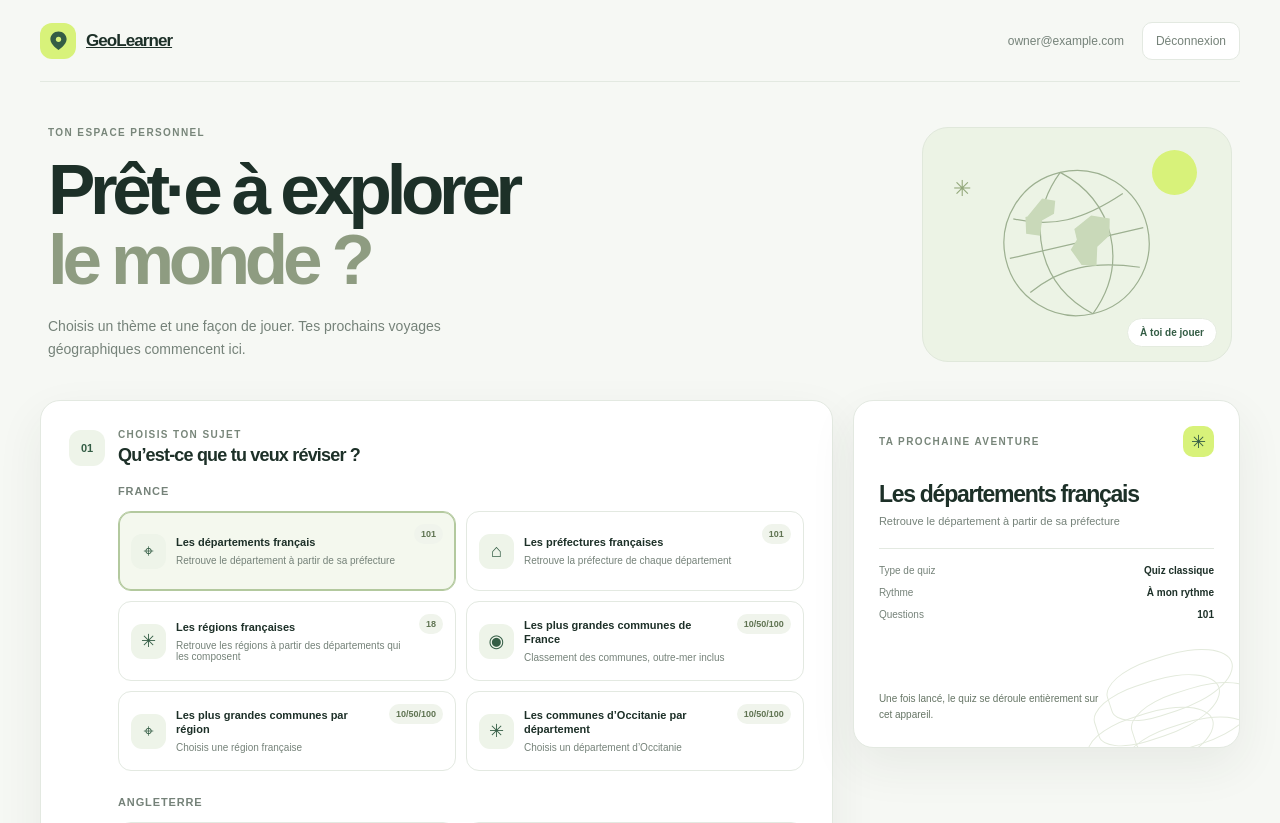
GeoLearner page interactions › lets users identify departments by prefecture on a map
What coordinates should you click on to do the following:
click the button "Les préfectures françaises"
I would click on:
 (635, 551)
Its box is [466, 511, 804, 591].
(page scrolled)
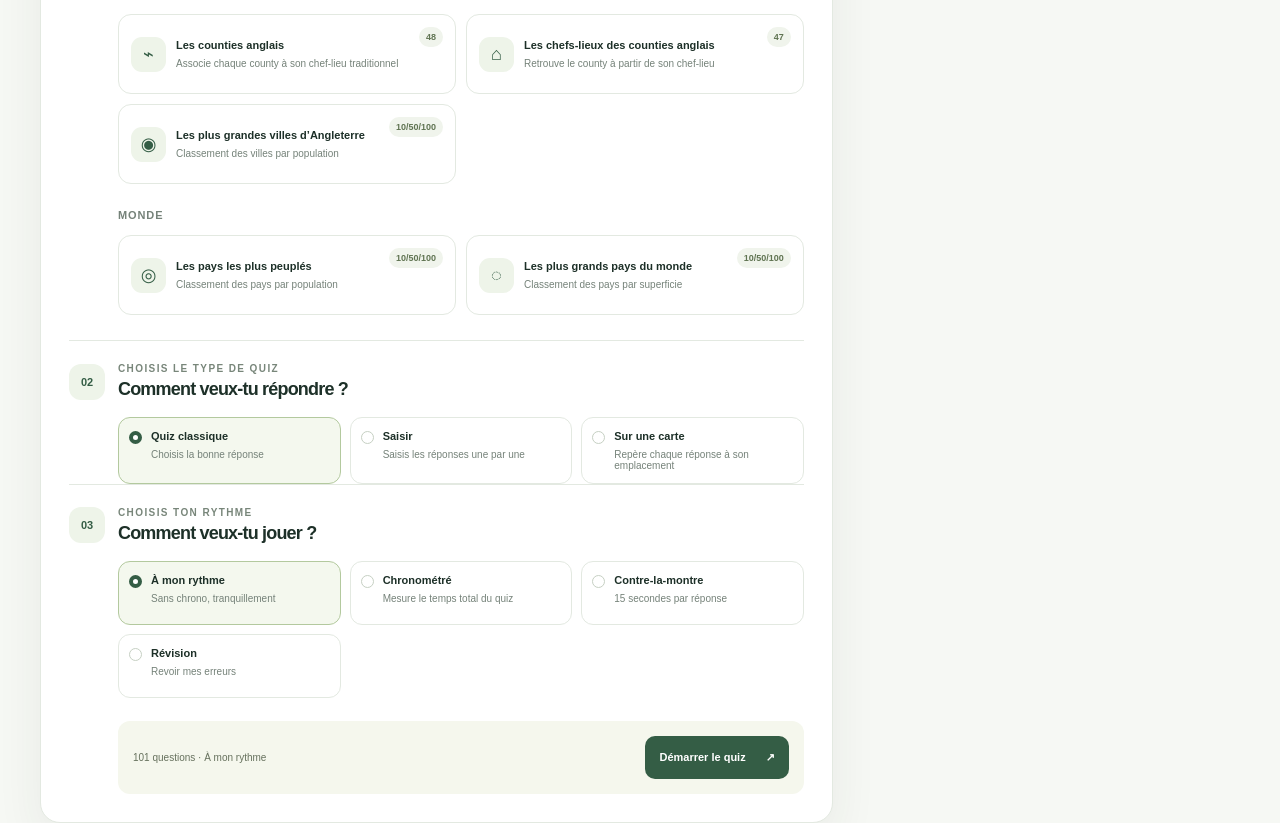
What coordinates should you click on to do the following:
click the button "Sur une carte Repère chaque réponse à son emplacement"
I would click on:
 (693, 451)
Its box is [581, 417, 804, 484].
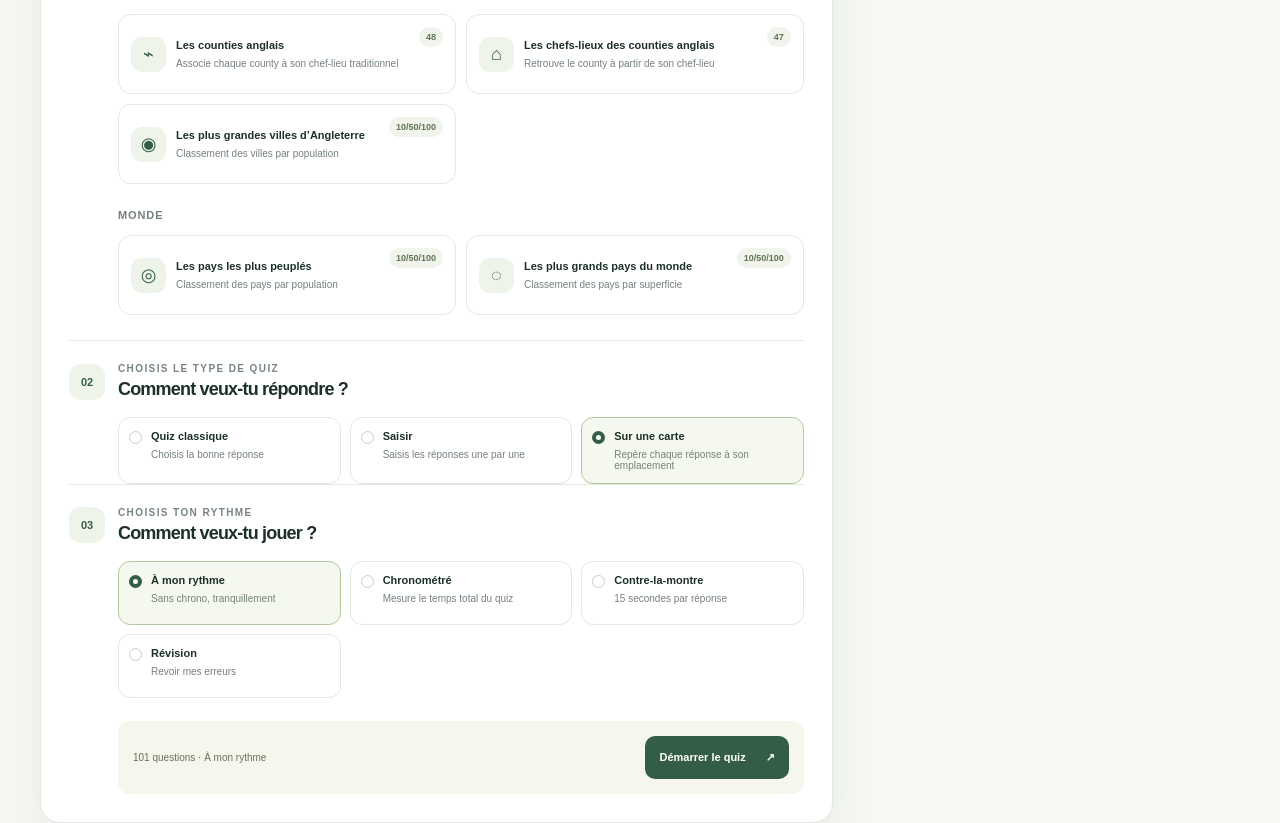
What coordinates should you click on to do the following:
click the button "Démarrer le quiz ↗"
I would click on:
 (717, 757)
Its box is [646, 736, 789, 779].
(page scrolled)
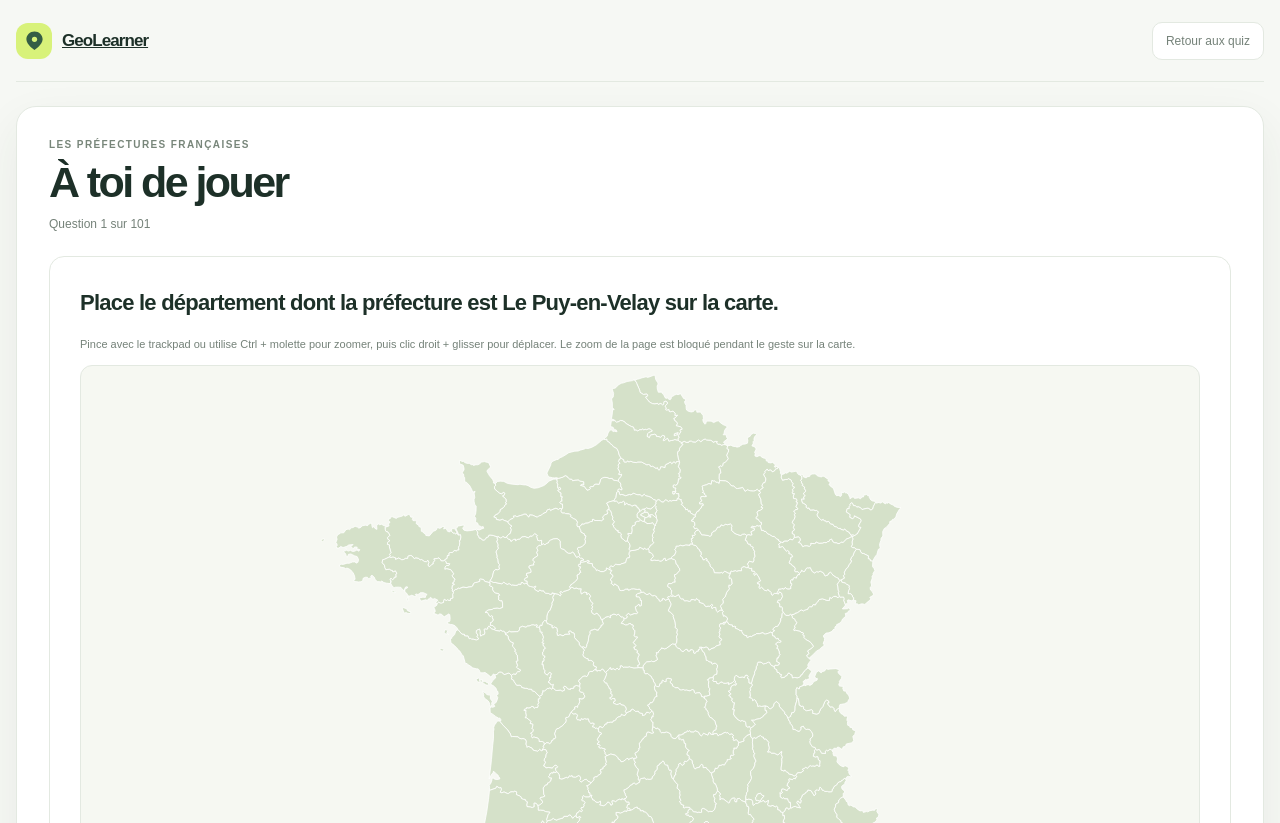
Expected: the 2nd heading shows "préfecture est", [80, 290, 778, 315]
